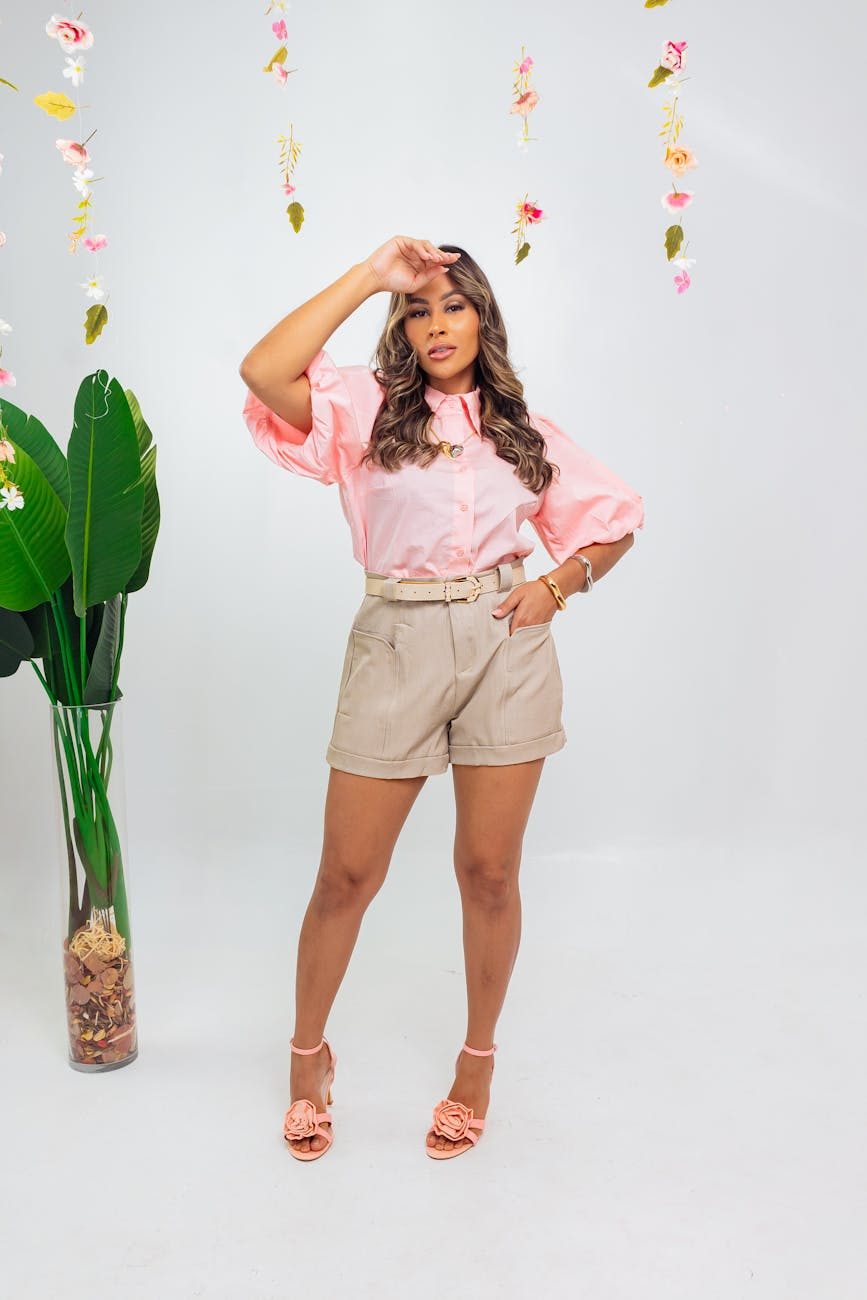opened_foot: (421, 1018, 510, 1155), (276, 1035, 346, 1166)
shorts: (319, 571, 574, 782)
